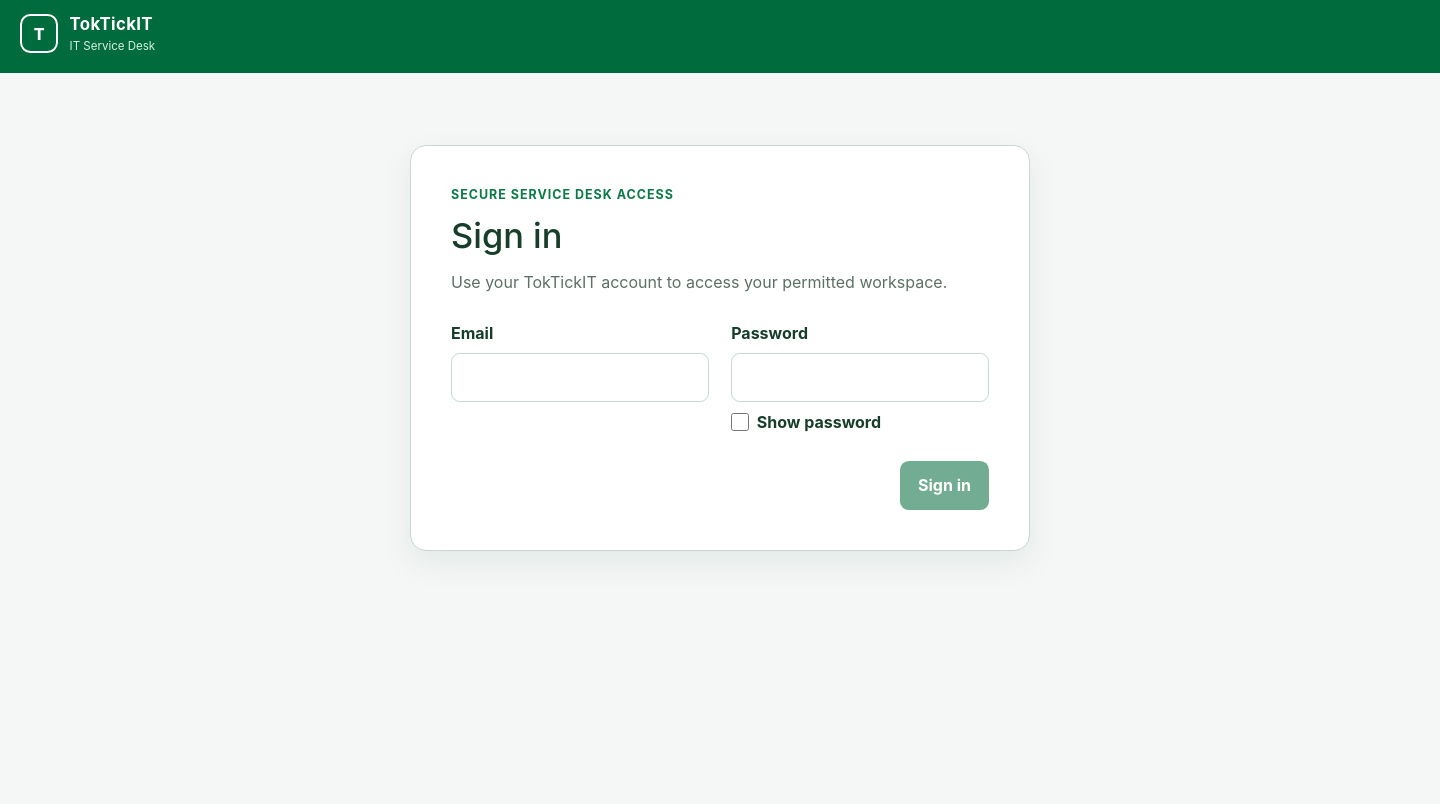
Create Ticket › renders the approved Create Ticket form inside the selected requester shell
In the field labelled "Email": (580, 378) [451,353,709,402], type "amina@example.test"
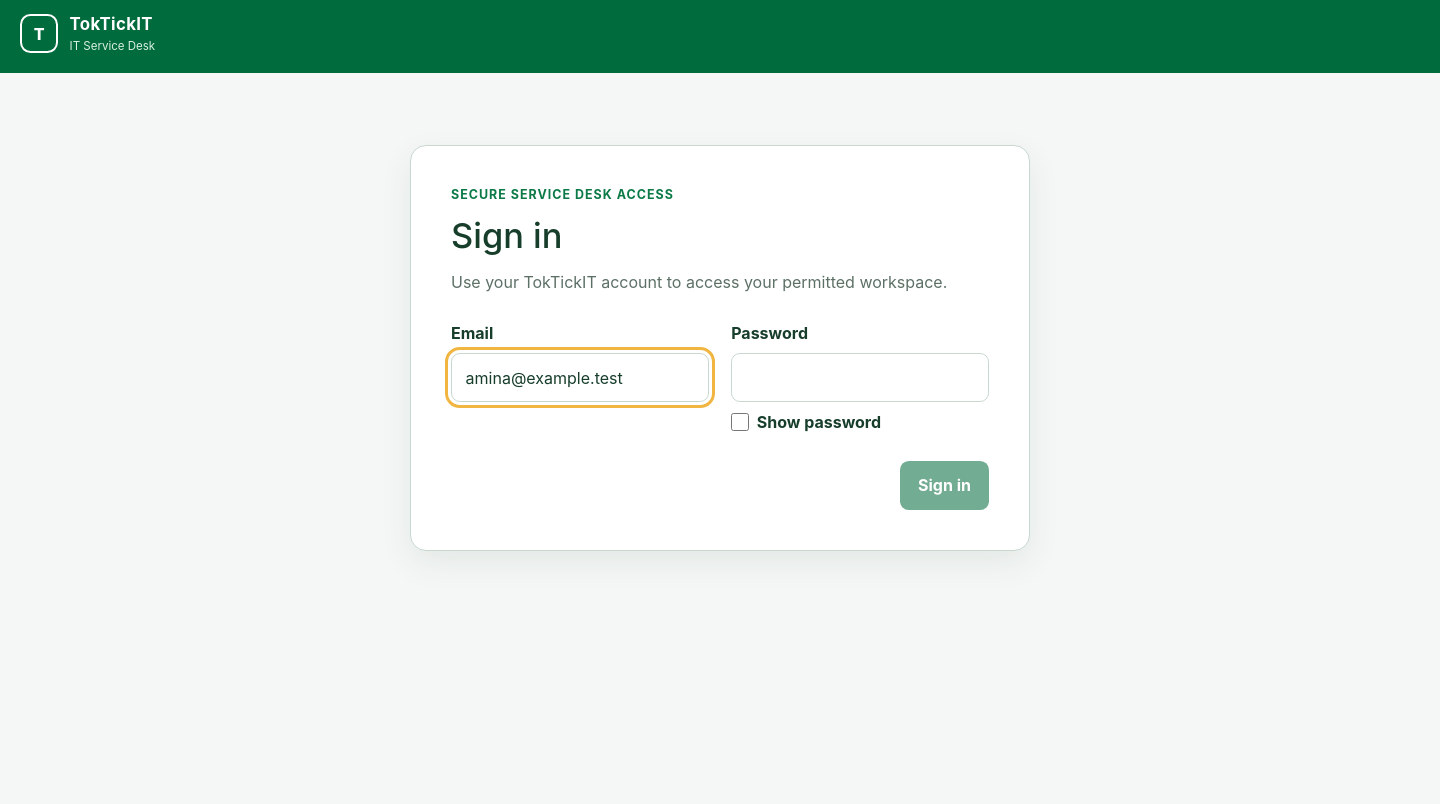
In the password field labelled "Password": (860, 378) [731,353,989,402], type "Initial-Lab3!Password"
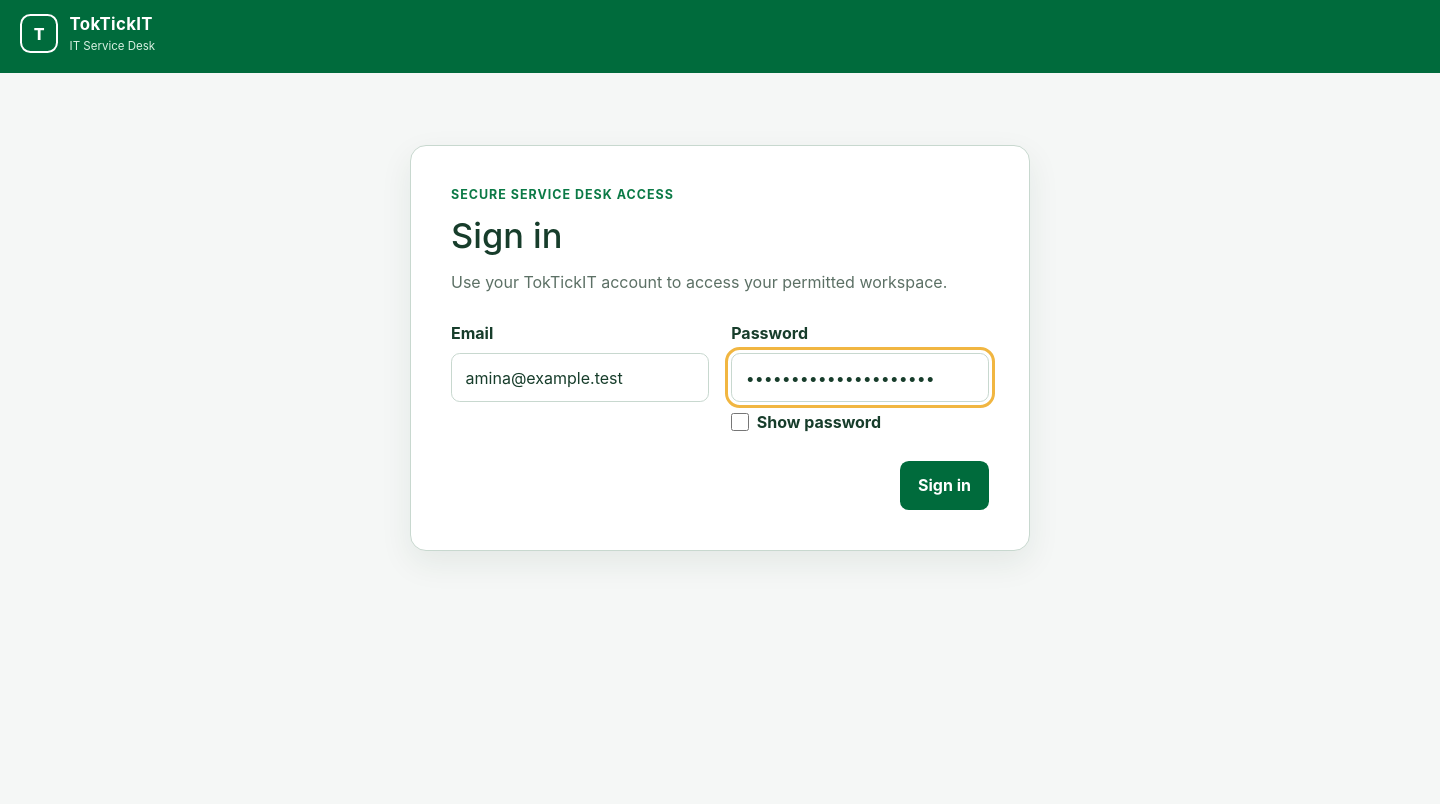
Click the button "Sign in": (944, 485) [900,461,989,510]
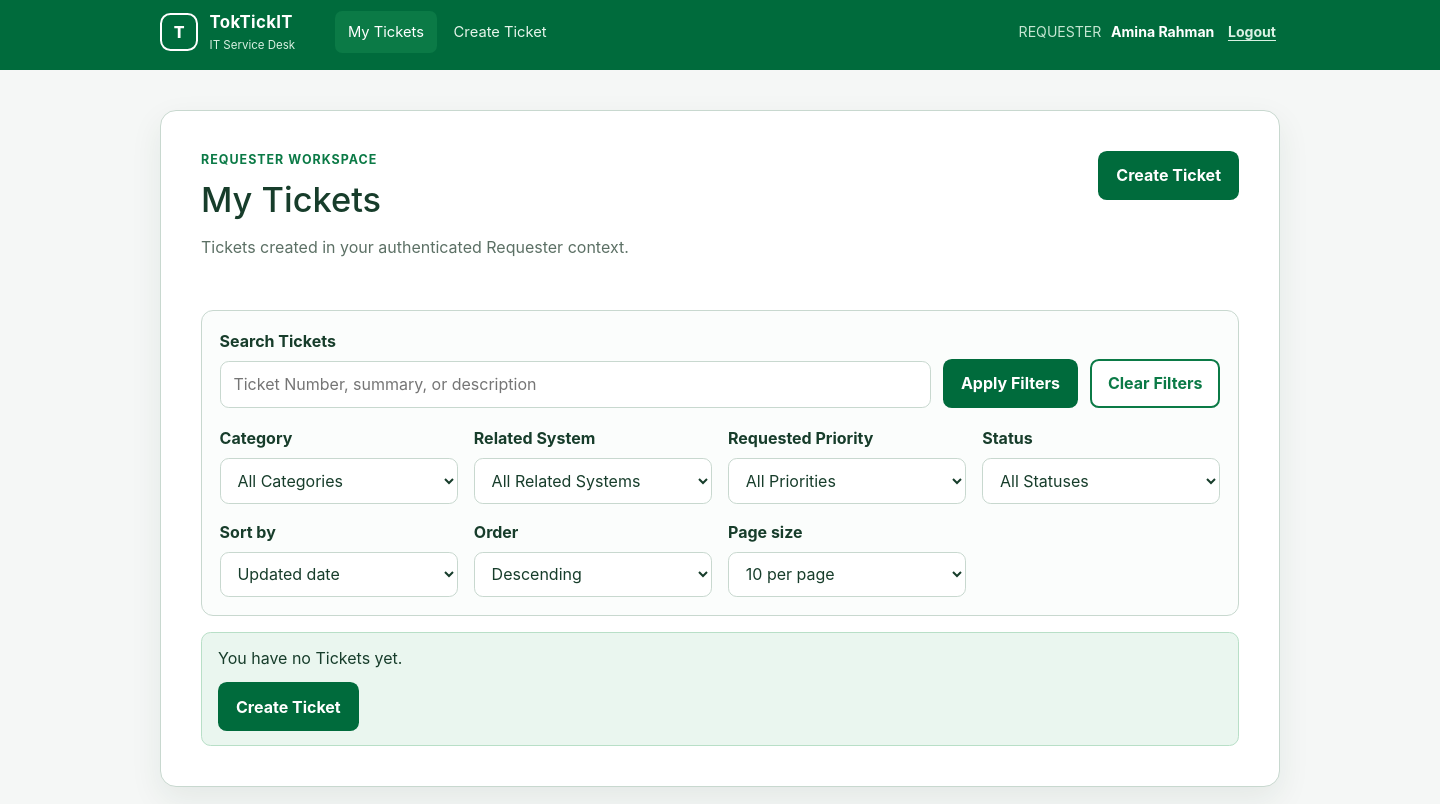
Click the link with aria-label "Create Ticket from My Tickets": (1169, 175) [1098,151,1239,200]
(page scrolled)
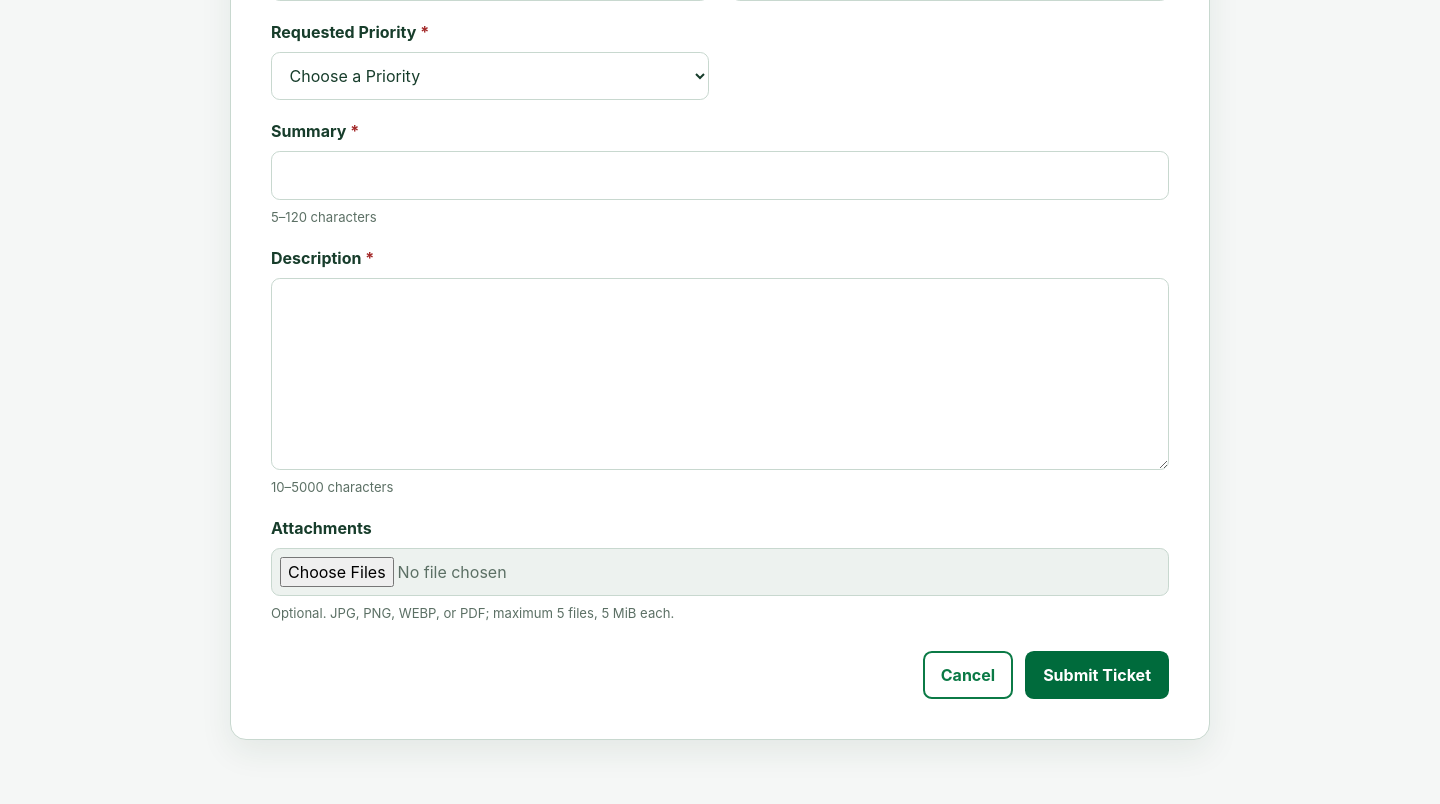
Expected: the field labelled "Summary *" is shown, [271,151,1169,200]
Expected: the text box labelled "Description *" is shown, [271,278,1169,470]
Expected: the dropdown labelled "Requested Priority *" is shown, [271,52,709,100]
